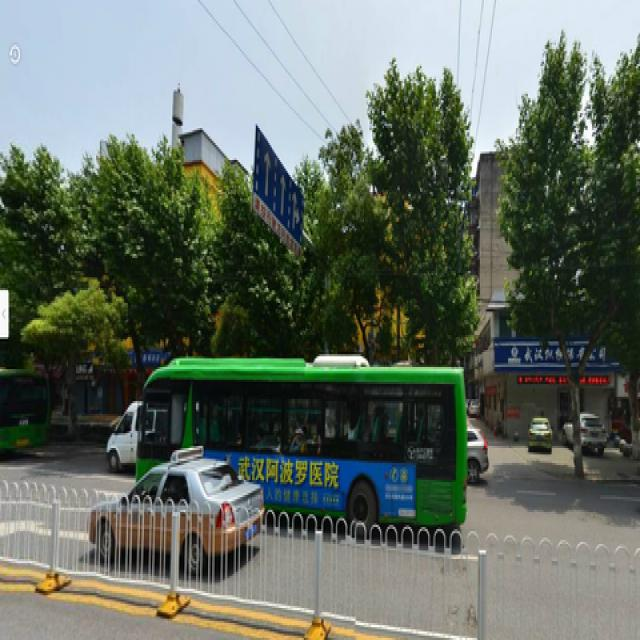meta: (529, 66, 611, 476)
